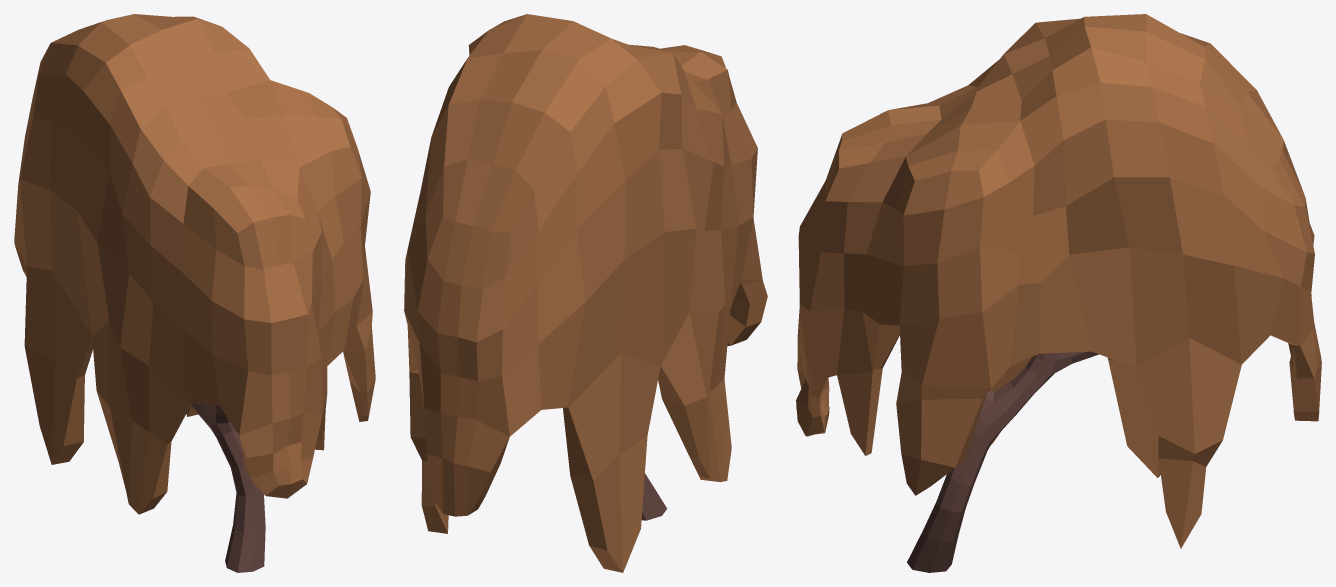
3 renders of one model, left to right at view 1: azimuth 30°, elevation 25°; view 2: azimuth 150°, elevation 25°; view 3: azimuth 270°, elevation 25°, orthographic. The views are drawn at different scales.
Visible parts, largest first — view 1: Willow_Autumn_1; view 2: Willow_Autumn_1; view 3: Willow_Autumn_1.
Boxes of the visible parts, bbox=[...] form: Willow_Autumn_1: bbox=[14, 14, 375, 572]; Willow_Autumn_1: bbox=[404, 14, 767, 572]; Willow_Autumn_1: bbox=[796, 14, 1321, 572].
Bounding box in the file's own units: 1.45 × 2.85 × 2.55.
